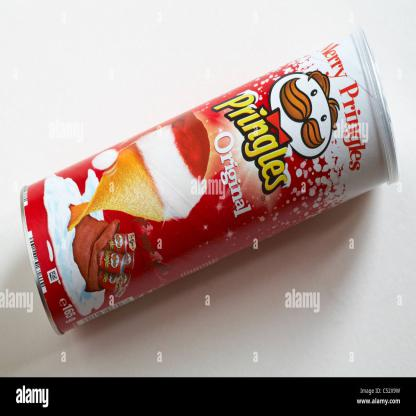potatochip: (1, 19, 405, 343)
